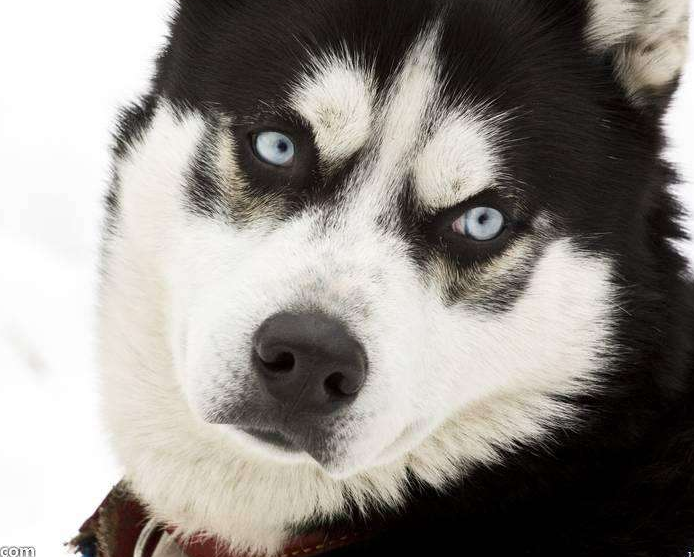nose: (245, 304, 374, 422)
